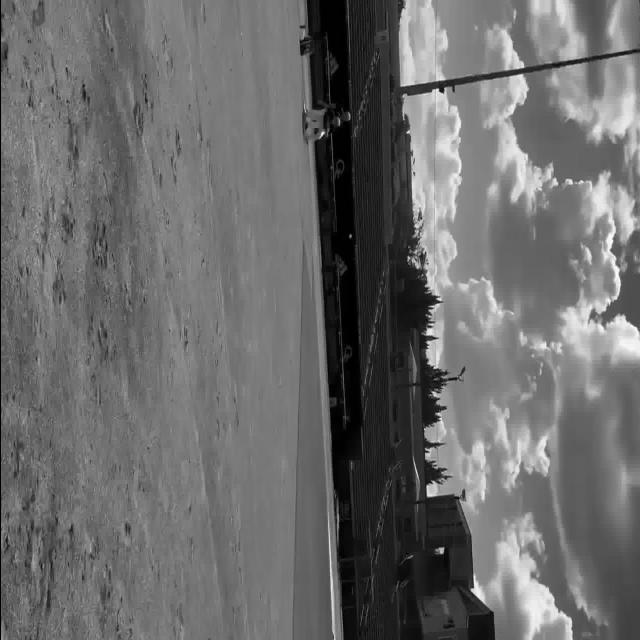baseball: (348, 233, 351, 240)
